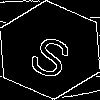S: (25, 25, 81, 82)
